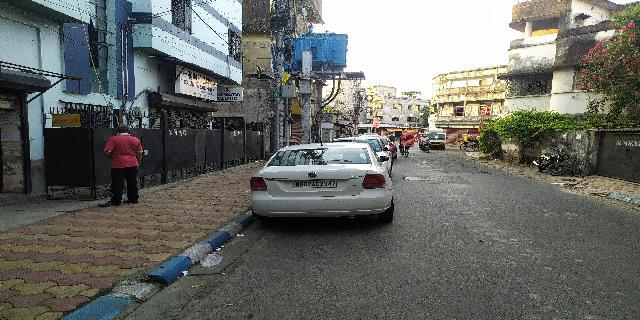Car: (247, 139, 395, 235)
